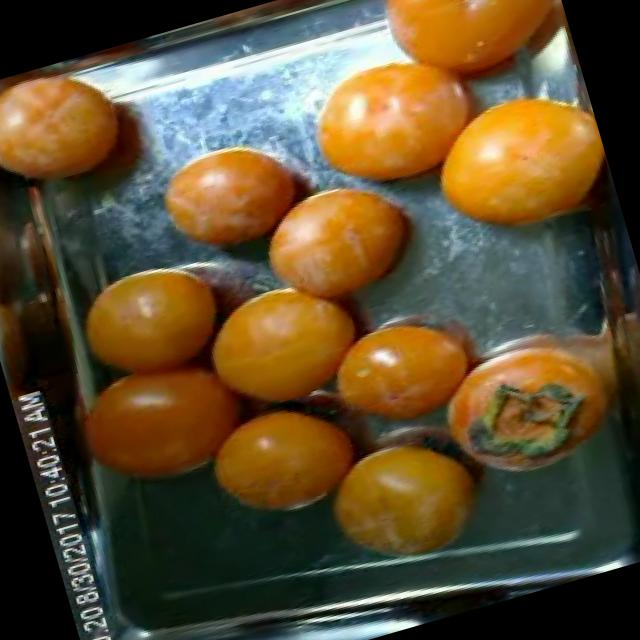Fruit: (38, 324, 280, 524), (396, 66, 624, 272), (230, 162, 452, 340), (294, 408, 511, 588), (302, 278, 516, 458), (280, 28, 488, 210), (127, 110, 341, 284), (47, 235, 261, 409), (183, 380, 384, 547), (0, 45, 167, 219)
